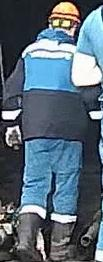gloves: (3, 119, 21, 153)
helmet: (47, 1, 81, 30)
vest: (16, 32, 92, 143)
